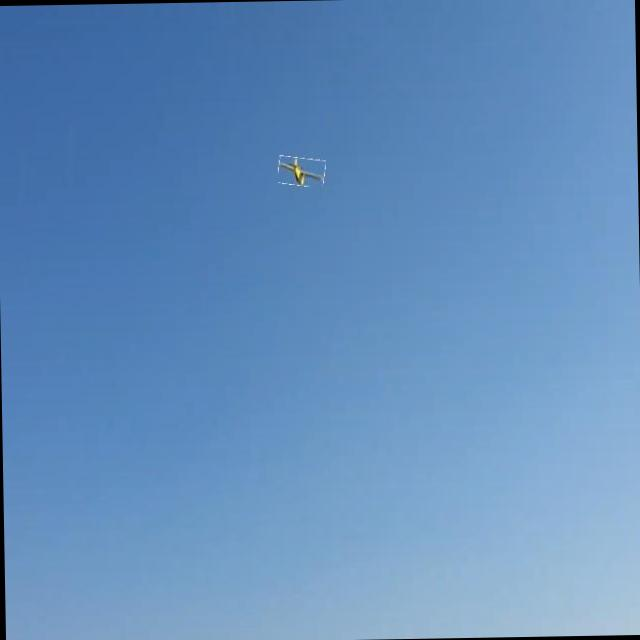UAV: (265, 158, 325, 194)
